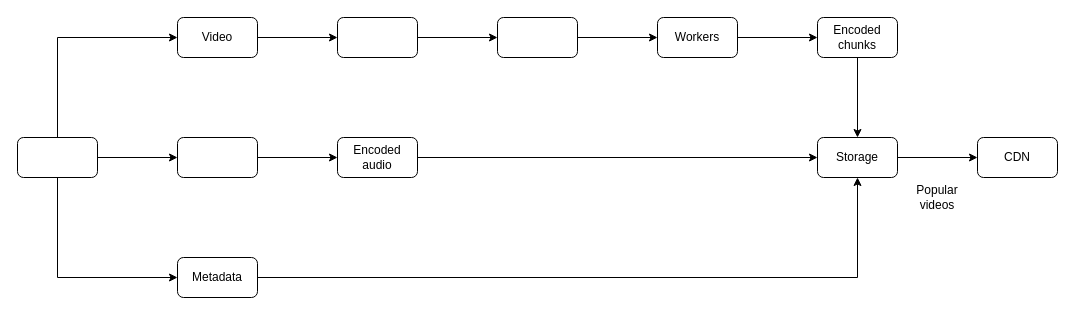
This 1075x315 diagram has some shape labels left out. The shapes that lost their labels are listed below. From the top down, each one's centre as x and y in pixels, then its label:
At pixel 377 37: "Chunks".
At pixel 537 37: "Message queue".
At pixel 57 157: "Original video".
At pixel 217 157: "Audio".
